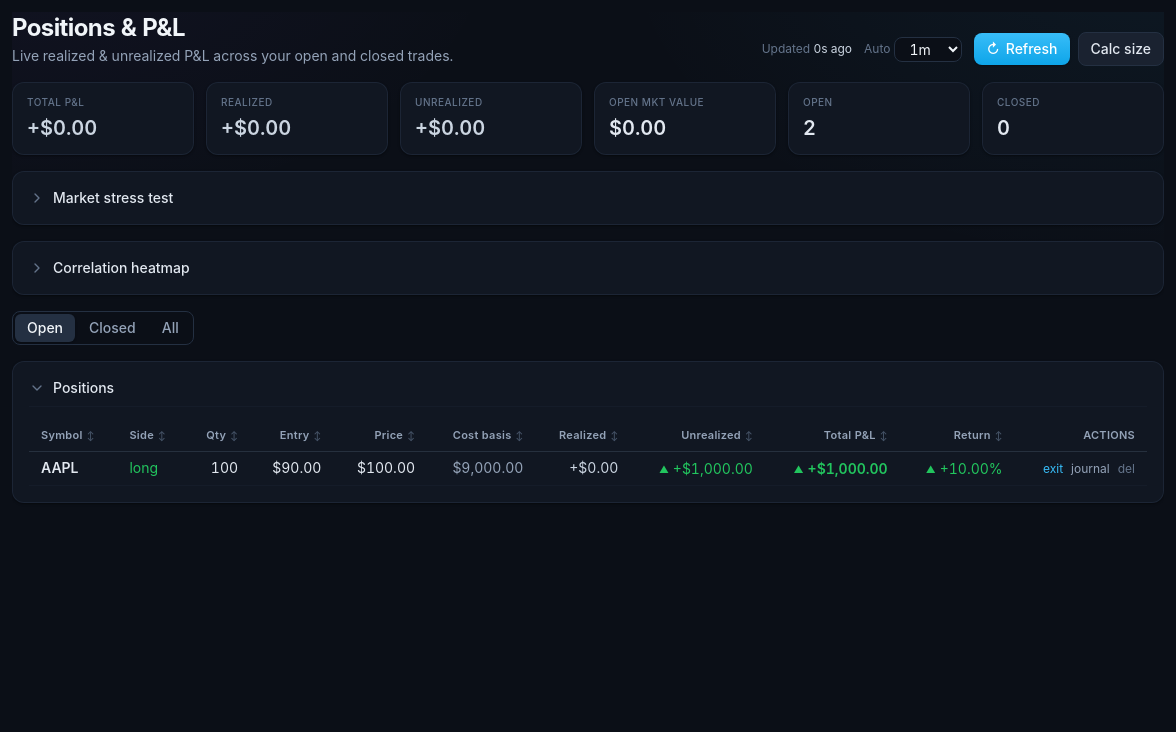
Test: PositionsPage — portfolio-wide tiles vs filtered list › reveals closed positions on the All tab without a refetch (client-side filter)
Check: the link "AAPL" is shown, box [41,460,78,476]
Check: the text "MSFT" is not shown
Step 1. Click the tab "All" → {"x": 170, "y": 328}, box [150,314,191,342]
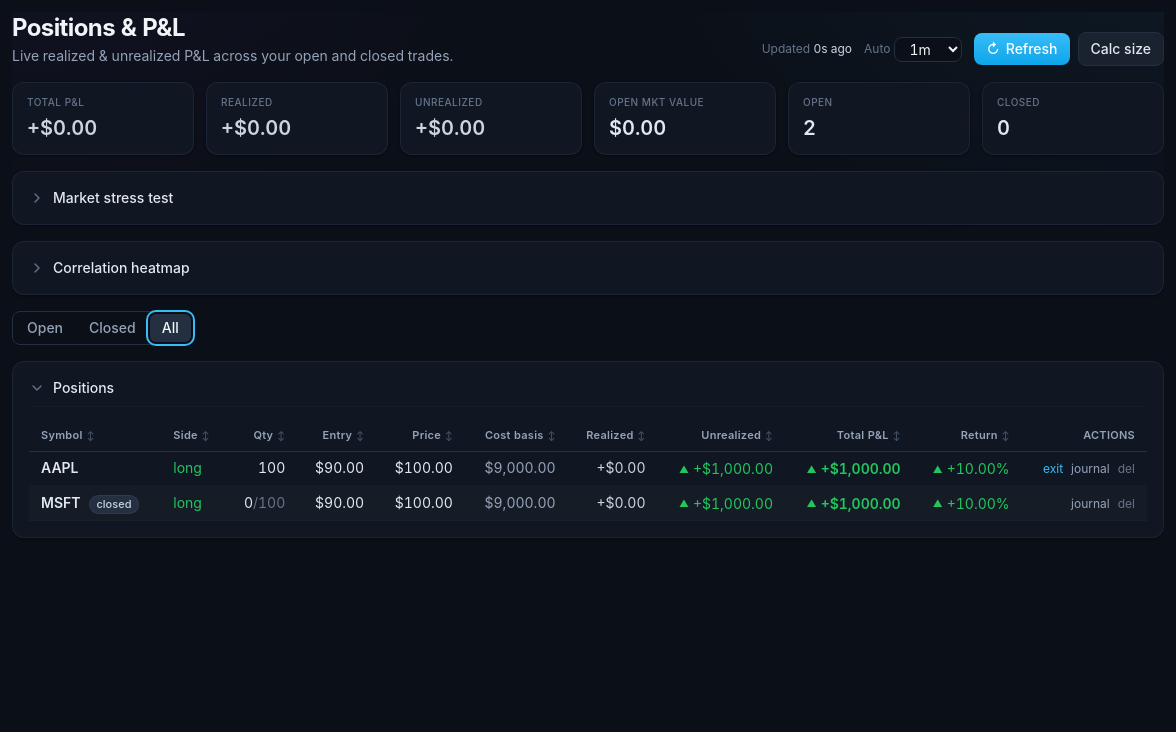
Check: the link "MSFT" is shown, box [41,494,80,510]
